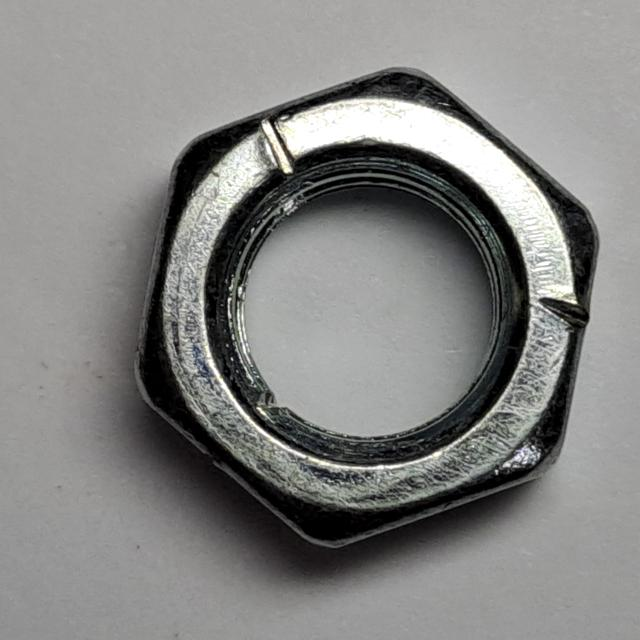Scratches: (126, 60, 609, 563)
